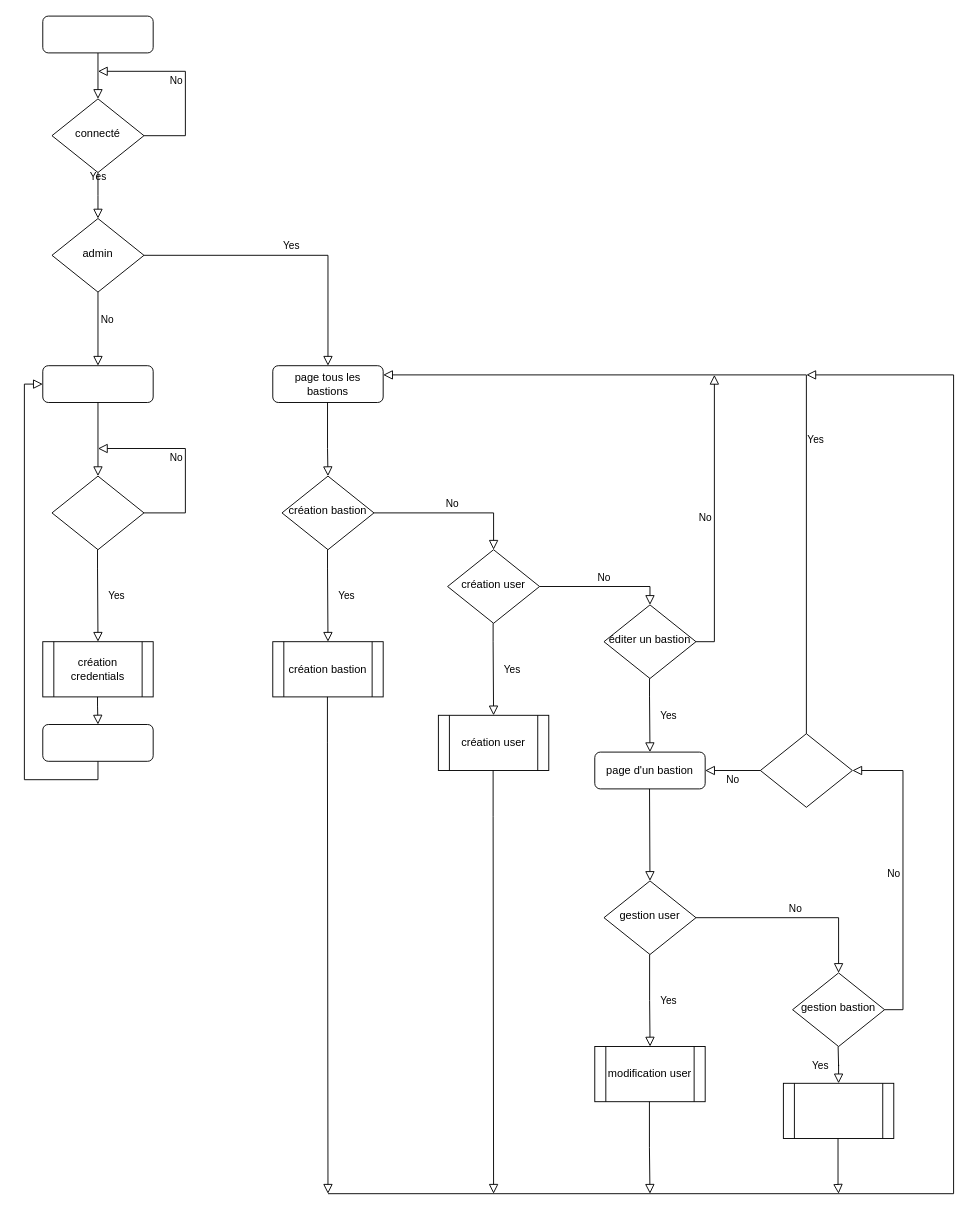
Image size: 979x1219. Some labels were removed from this diagram. Here are the shapes that lost their labels. From the top down, the centre of each, then its label:
the point at 97,34: page d'accueil
the point at 97,383: page bastion possédés
the point at 97,512: connexion bastion
the point at 97,742: affichage credentials aux bastion
the point at 805,770: fin édition
the point at 838,1110: modification bastion
